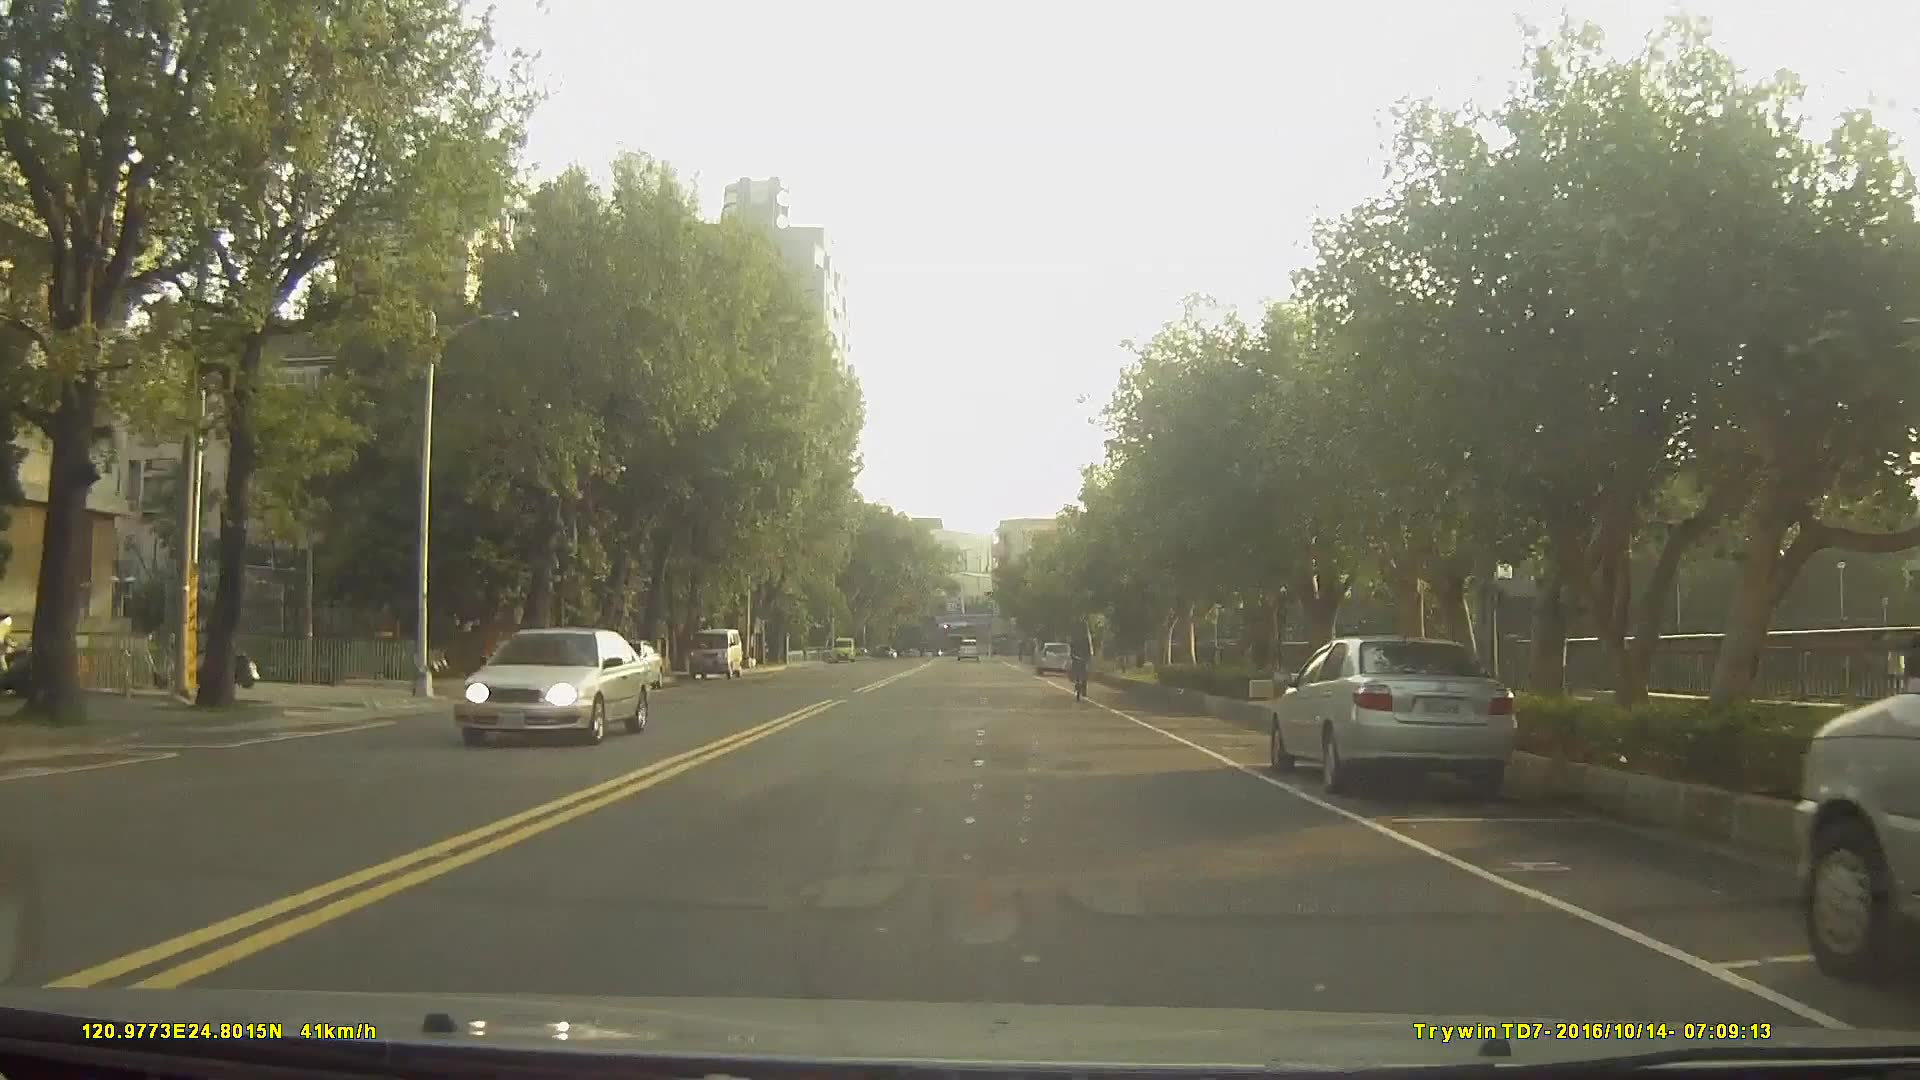rider: (1068, 618, 1095, 702)
vehicle: (1269, 633, 1518, 800), (1792, 668, 1920, 982), (451, 623, 650, 747), (603, 637, 664, 689), (688, 625, 743, 678), (1035, 638, 1076, 676), (956, 633, 981, 659)
